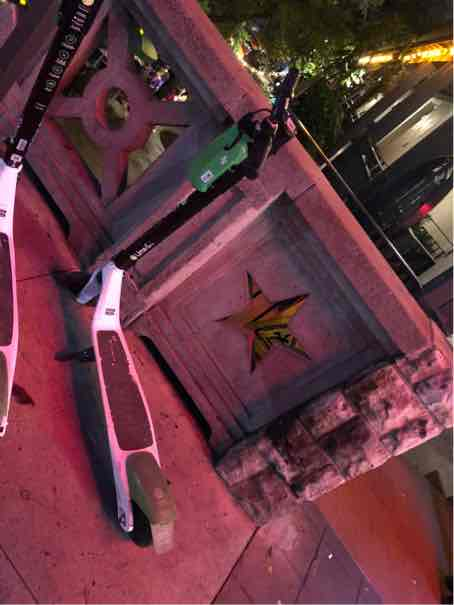scooter: (64, 37, 330, 562)
